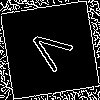V: (25, 25, 81, 79)
